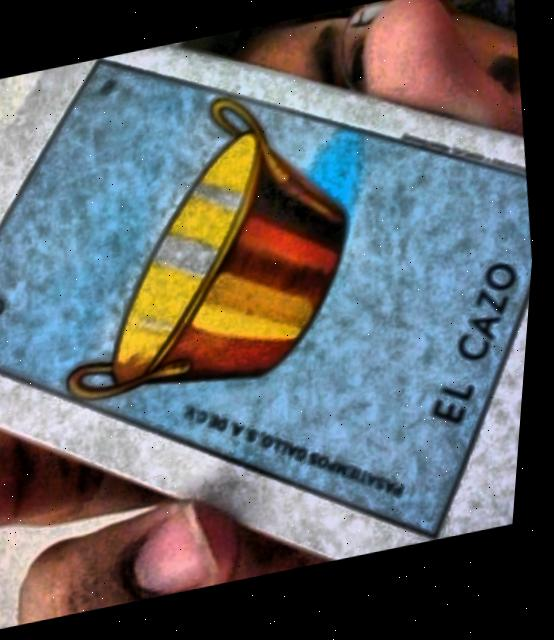El Cazo: (0, 61, 536, 538)
